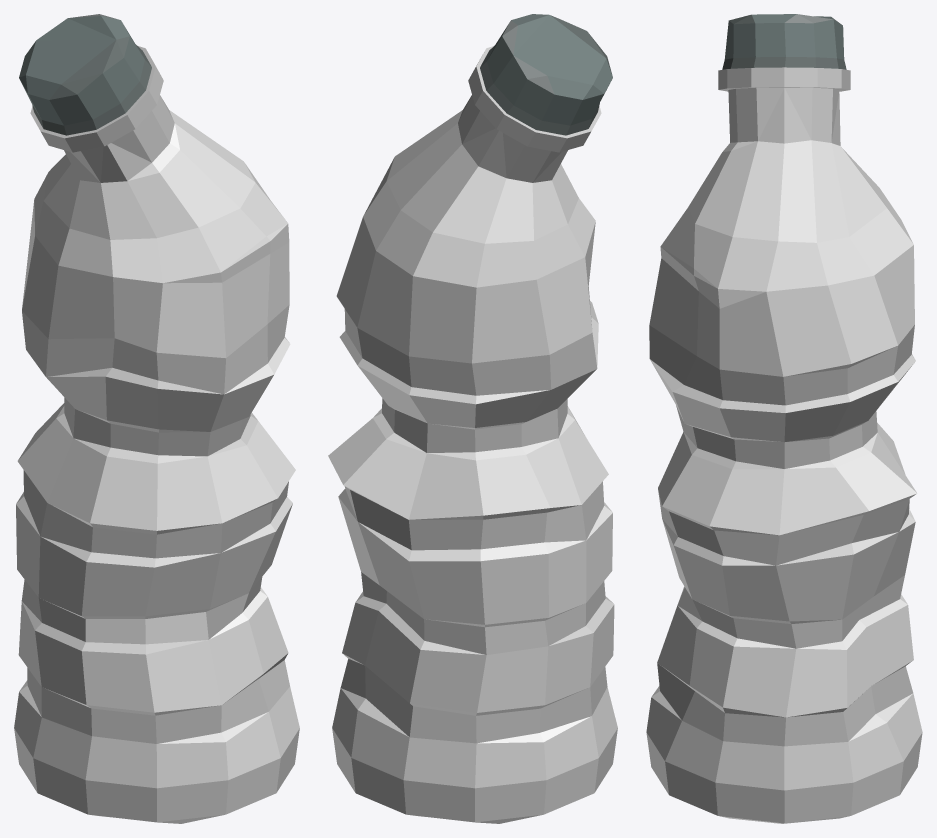
File: mesh_bottle_02_empty.fbx
3 renders of one model, left to right at view 1: azimuth 30°, elevation 25°; view 2: azimuth 150°, elevation 25°; view 3: azimuth 270°, elevation 25°, orthographic. The views are drawn at different scales.
Visible parts, largest first — view 1: mesh_bottle_02_empty; view 2: mesh_bottle_02_empty; view 3: mesh_bottle_02_empty.
Part boxes in pixels (x1,y1,x2,y2): mesh_bottle_02_empty: [14, 14, 299, 823]; mesh_bottle_02_empty: [328, 14, 617, 823]; mesh_bottle_02_empty: [646, 14, 922, 823].
Bounding box in the file's own units: 0.1905 × 0.5533 × 0.1865.
